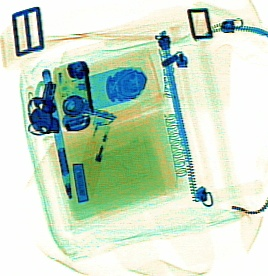lighter: (72, 104, 117, 195)
